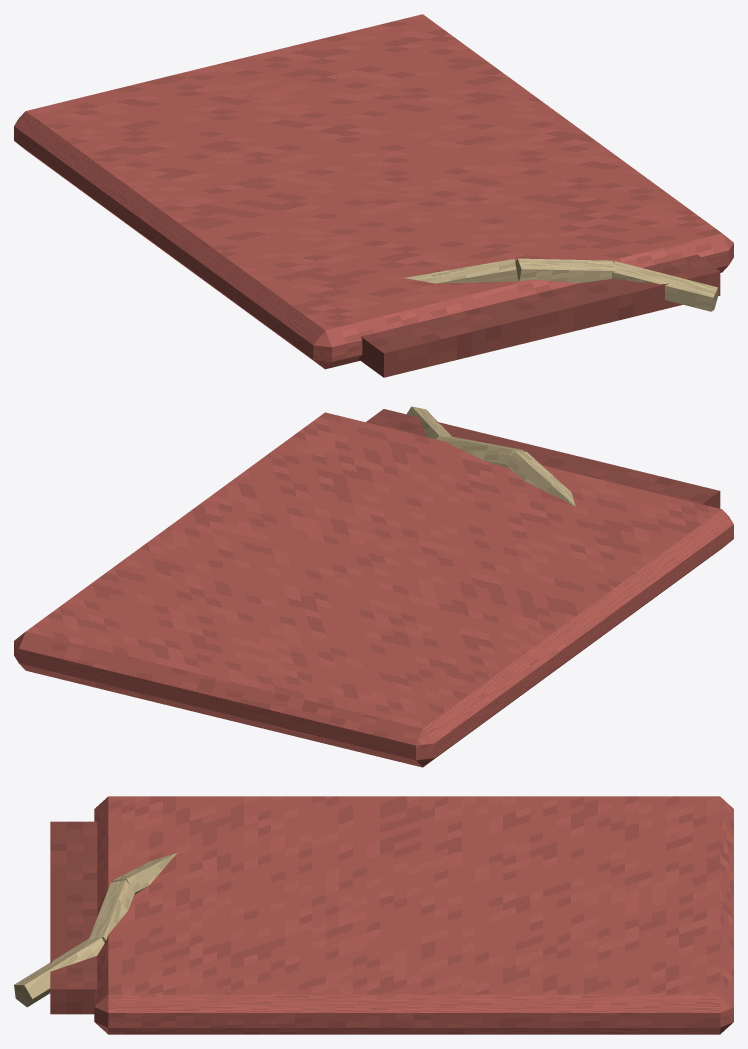
The model's file is bag_canvas_small.glb.
3 views of the same model, one above another, from view 1: azimuth 30°, elevation 25°; view 2: azimuth 150°, elevation 25°; view 3: azimuth 270°, elevation 25° (orthographic). The views are drawn at different scales.
Visible parts, largest first — view 1: block_rounded canvas sack, block_stitched closure, block_cord tie 2, block_cord tie 1, block_cord tie 0; view 2: block_rounded canvas sack, block_stitched closure, block_cord tie 0, block_cord tie 1, block_cord tie 2; view 3: block_rounded canvas sack, block_stitched closure, block_cord tie 2, block_cord tie 1, block_cord tie 0.
Part boxes in pixels (x1=…): block_rounded canvas sack: x1=14, y1=14, x2=733, y2=369; block_stitched closure: x1=358, y1=254, x2=720, y2=377; block_cord tie 2: x1=612, y1=261, x2=718, y2=311; block_cord tie 1: x1=515, y1=258, x2=615, y2=282; block_cord tie 0: x1=405, y1=259, x2=518, y2=283; block_rounded canvas sack: x1=14, y1=412, x2=733, y2=767; block_stitched closure: x1=366, y1=409, x2=720, y2=508; block_cord tie 0: x1=506, y1=451, x2=575, y2=506; block_cord tie 1: x1=438, y1=436, x2=523, y2=468; block_cord tie 2: x1=407, y1=406, x2=451, y2=439; block_rounded canvas sack: x1=94, y1=796, x2=733, y2=1034; block_stitched closure: x1=50, y1=821, x2=97, y2=1014; block_cord tie 2: x1=14, y1=937, x2=104, y2=1007; block_cord tie 1: x1=89, y1=880, x2=134, y2=941; block_cord tie 0: x1=112, y1=853, x2=176, y2=894.
Bounding box in the file's own units: 0.09 × 0.0113 × 0.1306.
Materials: 1 (1 with a texture image).
